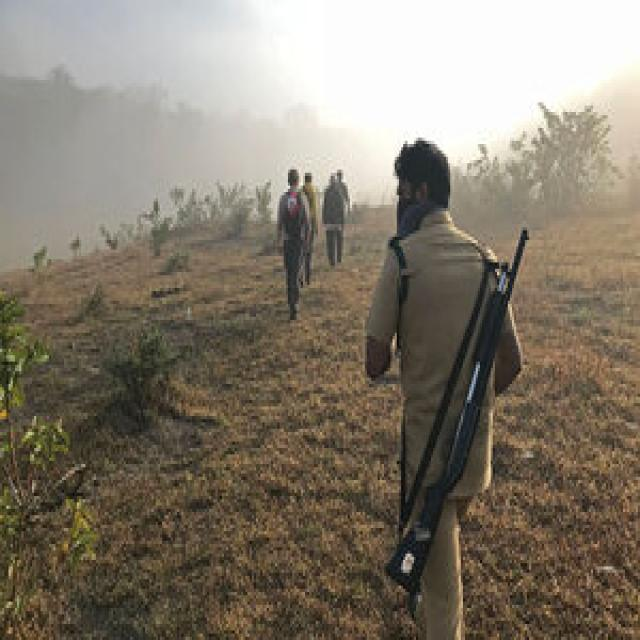ranger: (368, 91, 544, 618)
weapon: (389, 207, 533, 607)
